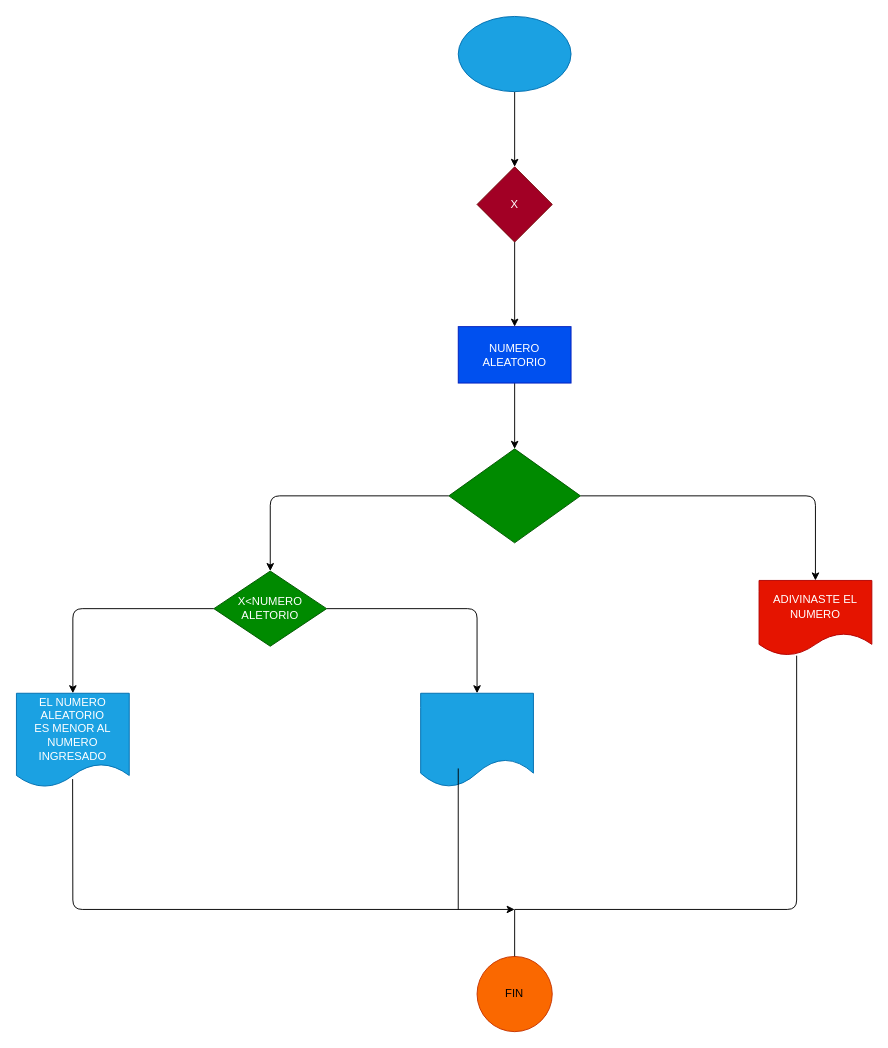
Some shapes in this 888 by 1048 pixel diagram are drawn without their labels. Each missing label, with the centre of its shape:
EL NUMERO ALEATORIO ES MAYOR AL NUMERO INGRESADO: point 476,739
INICIO: point 514,54
X==NUMERO ALETORIO: point 514,495
